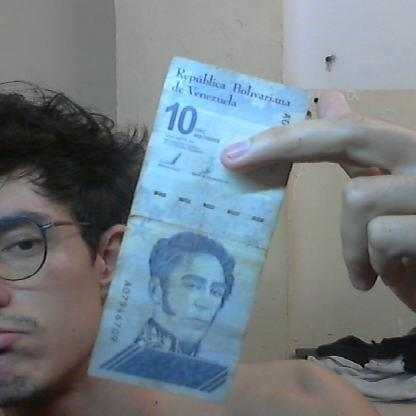vef_front: (85, 55, 311, 408)
